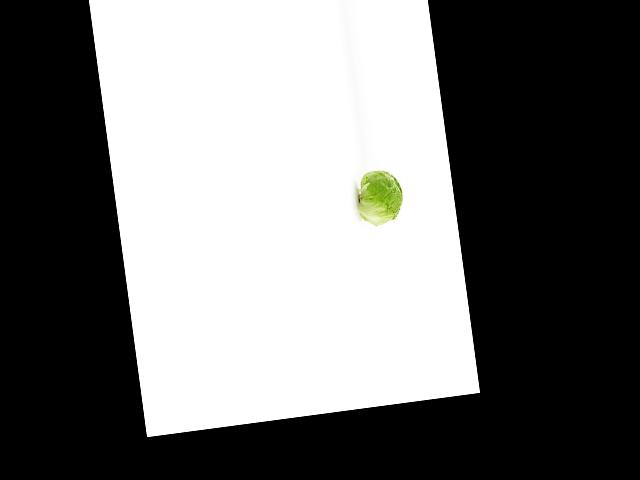lettuce: (355, 160, 407, 227)
